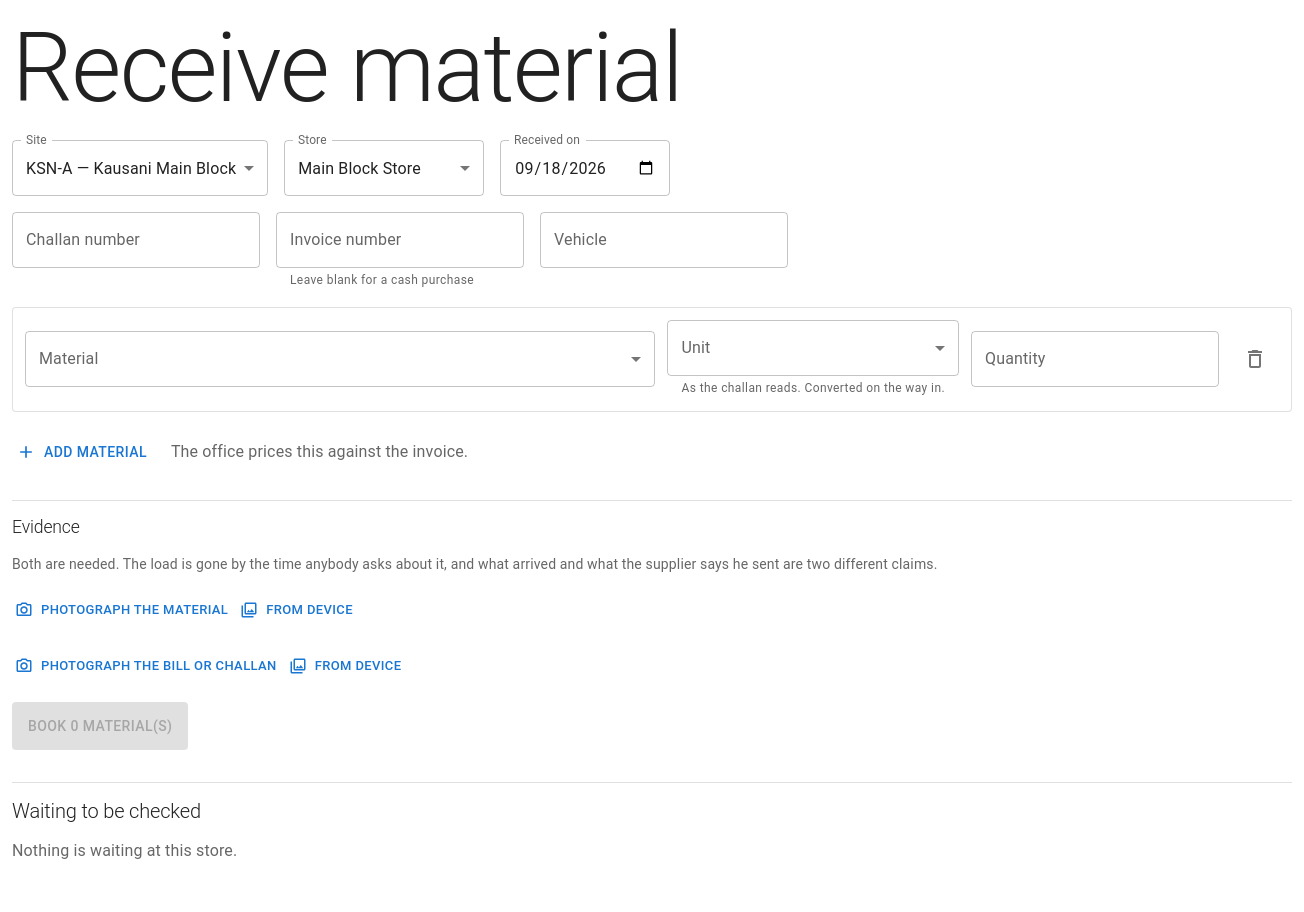
Test: ReceiveMaterialPage › offers the base unit and whatever the material converts from
Click the 2nd dropdown named "Material" at x=340, y=359, box 25,331 -> 656,387
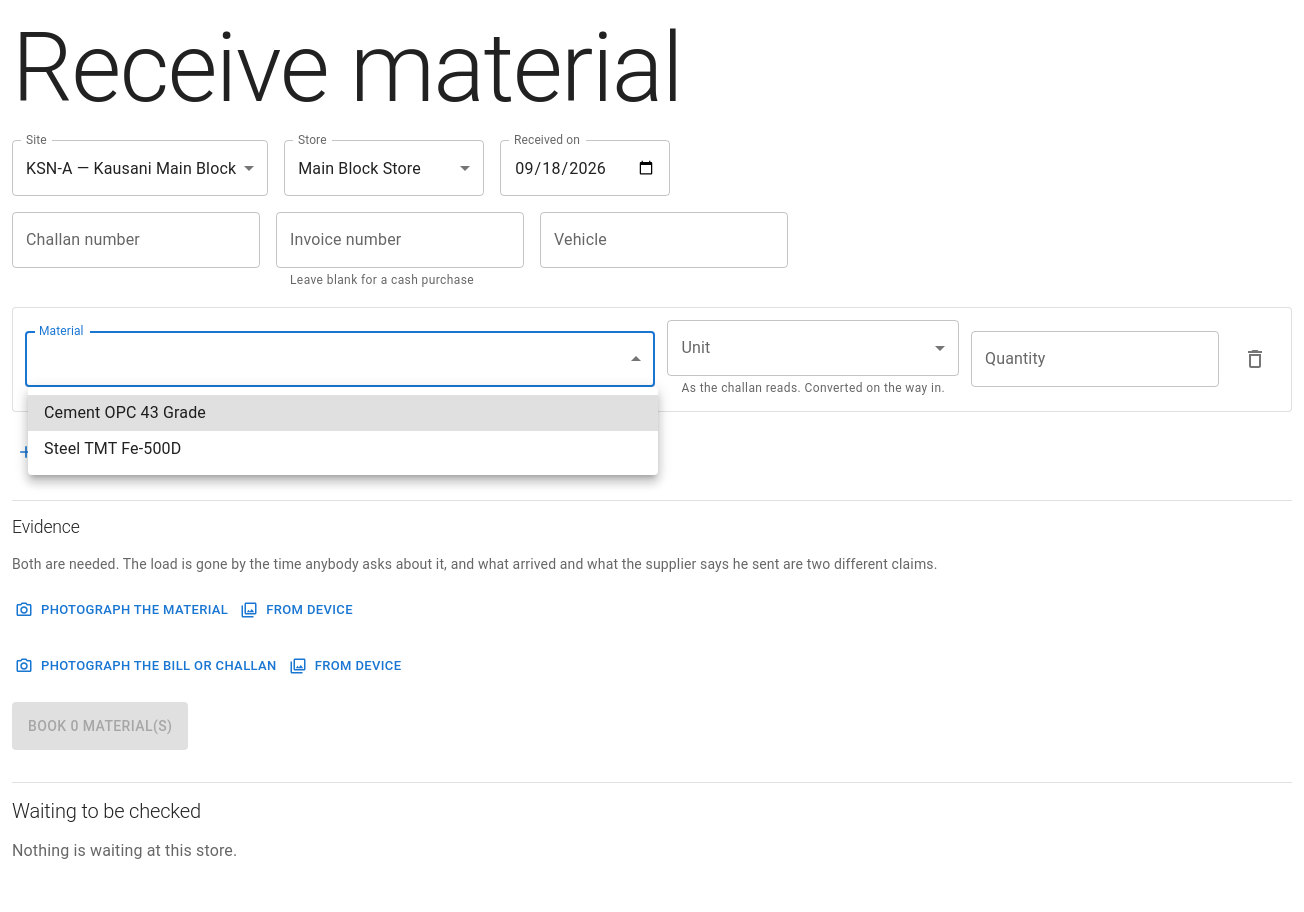
Click the option "Steel TMT Fe-500D" at x=113, y=448, box 44,439 -> 181,458
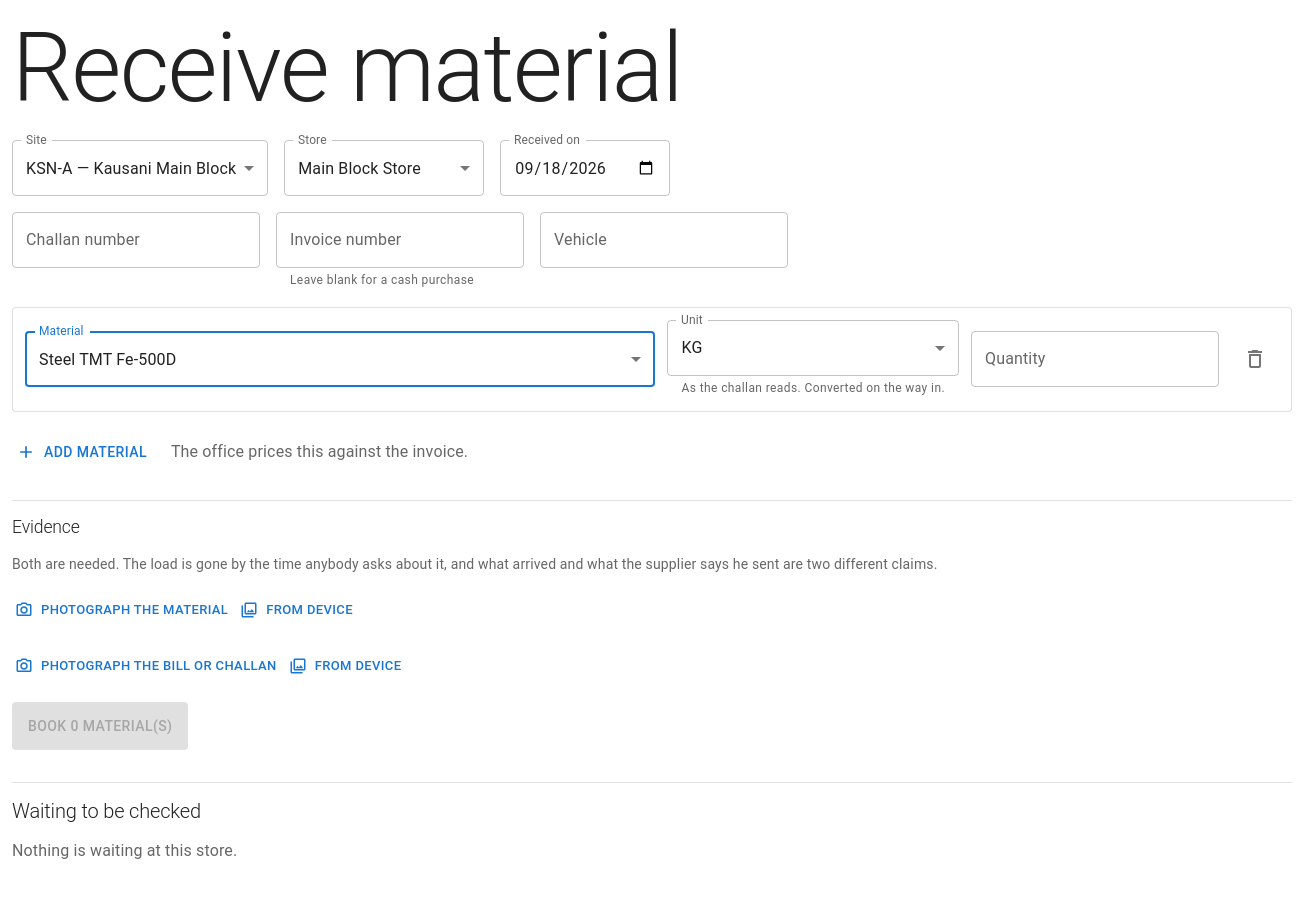
Click the dropdown named "Unit" at x=692, y=348, box 682,338 -> 702,357
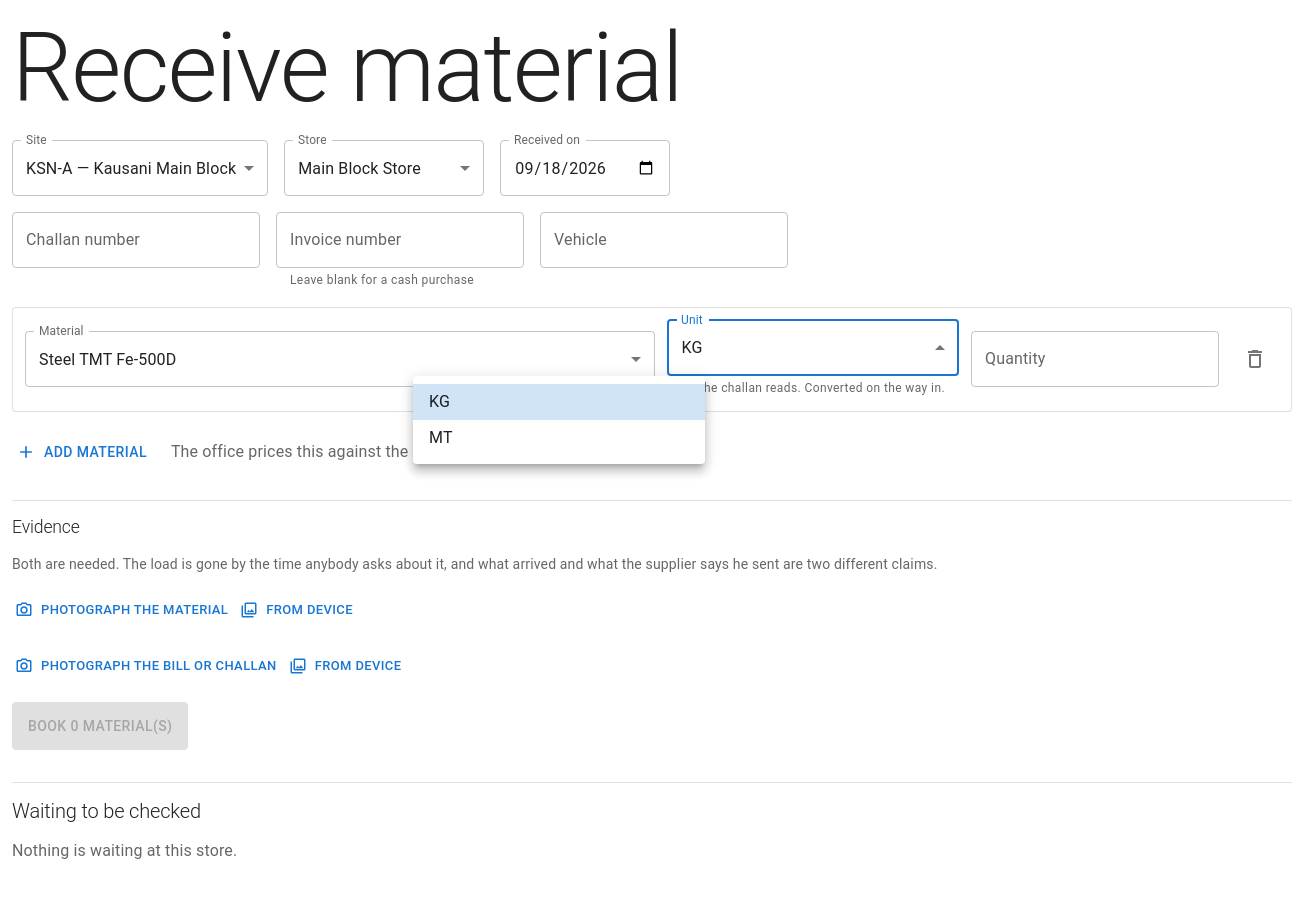
Expected: the options read "KG", "MT", in this order, 413,384 -> 705,420; 429,428 -> 453,447
